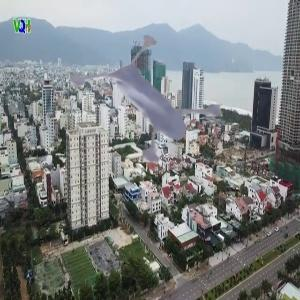drone: (39, 3, 243, 207)
